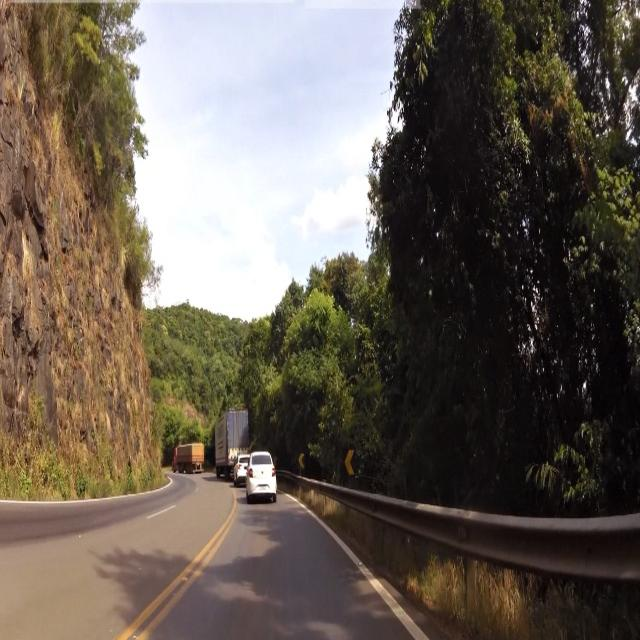Del: (341, 446, 358, 481), (296, 449, 304, 468)
